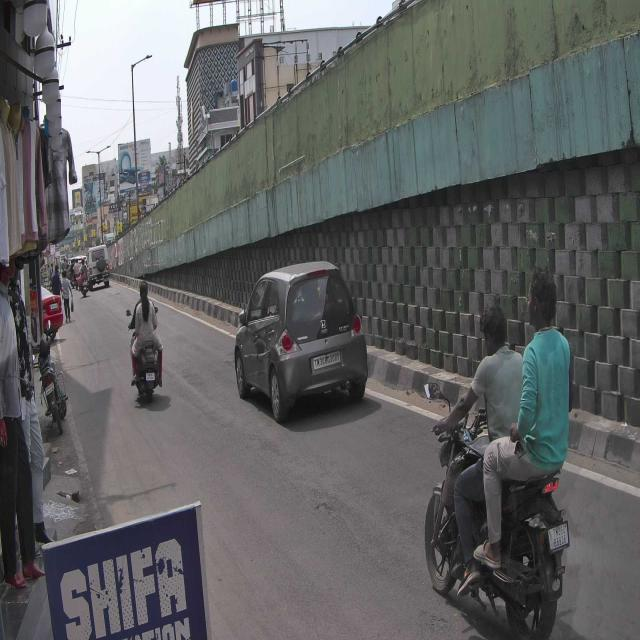double_rider: (424, 266, 570, 638)
